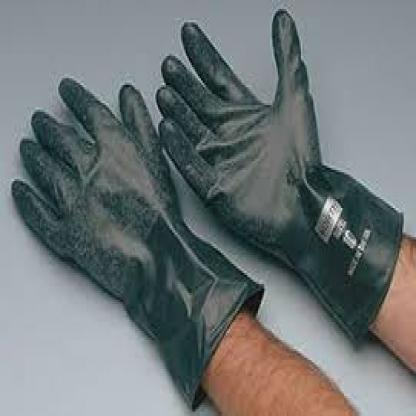gloves: (160, 9, 414, 309), (12, 64, 175, 310)
